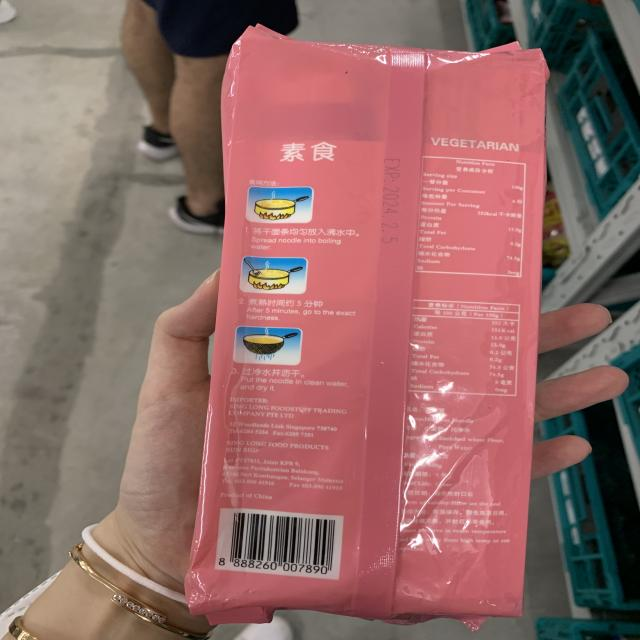object_name: (218, 46, 527, 616)
